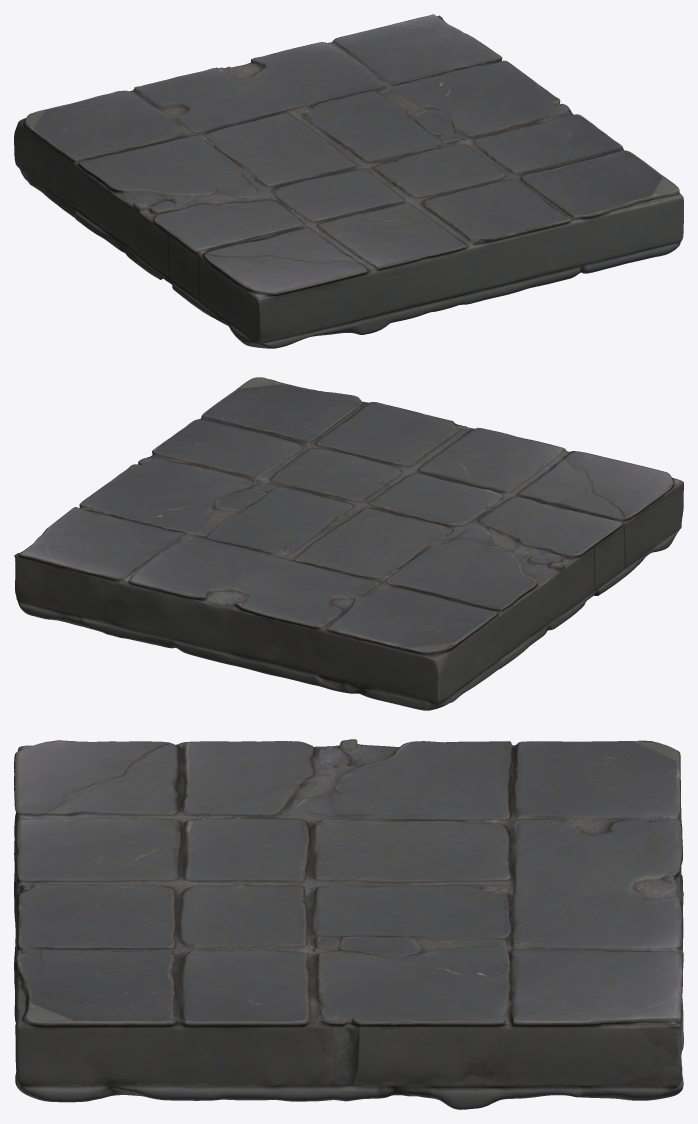
The model's file is Meshy_AI_Dark_gray_rock_tiles__0221052234_texture.glb.
3 renders of one model, top to bottom at view 1: azimuth 30°, elevation 25°; view 2: azimuth 150°, elevation 25°; view 3: azimuth 270°, elevation 25°, orthographic. The views are drawn at different scales.
Bounding box in the file's own units: 2 × 0.3038 × 2.
Materials: 1 (1 with a texture image).
